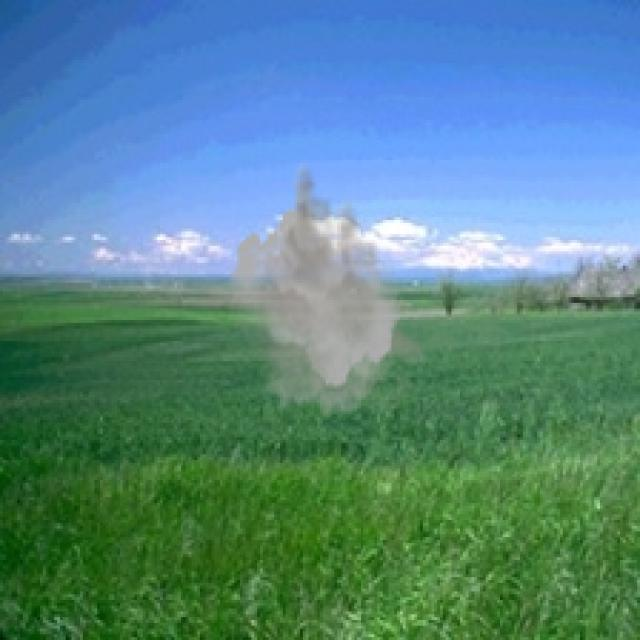smoke: (226, 157, 428, 423)
